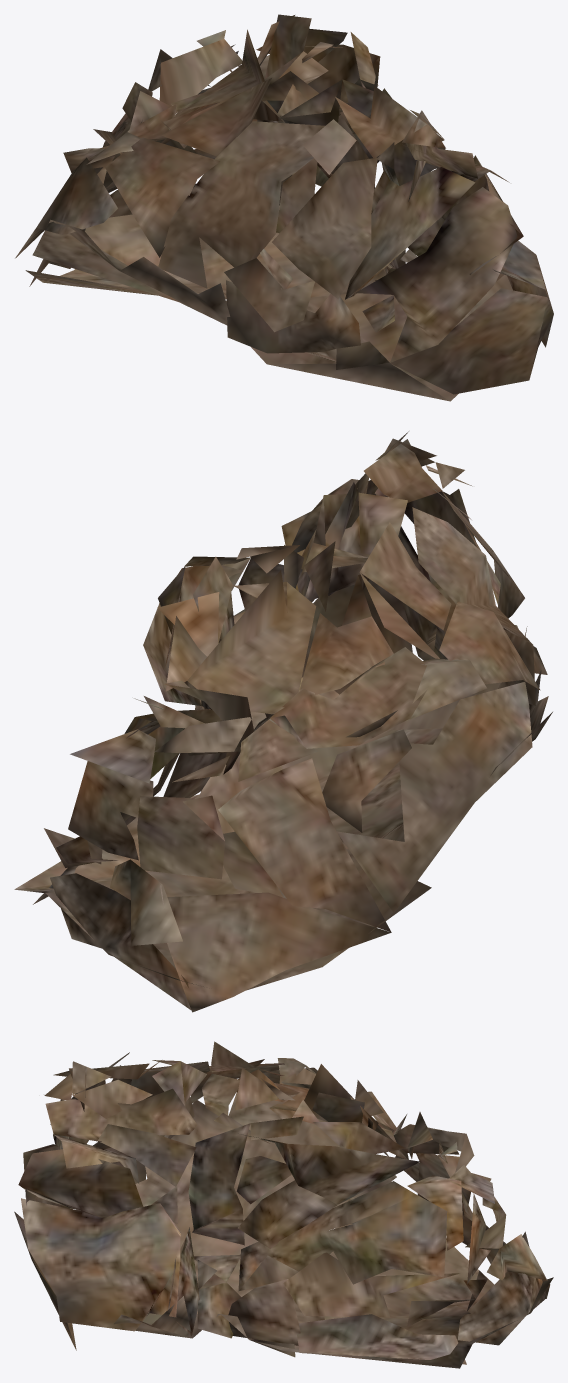
The model's file is boulder-low.glb.
The picture shows the model from 3 angles, top to bottom: view 1: azimuth 30°, elevation 25°; view 2: azimuth 150°, elevation 25°; view 3: azimuth 270°, elevation 25°; orthographic projection. The views are drawn at different scales.
Visible parts, largest first — view 1: boulder_01 baked; view 2: boulder_01 baked; view 3: boulder_01 baked.
Boxes of the visible parts, left/top/right/bottom form: boulder_01 baked: left=15, top=14, right=553, bottom=401; boulder_01 baked: left=14, top=431, right=552, bottom=1012; boulder_01 baked: left=14, top=1041, right=553, bottom=1368.
Size of the model in its own units: 1.29 by 0.9988 by 1.81.
Materials: 1 (1 with a texture image).
